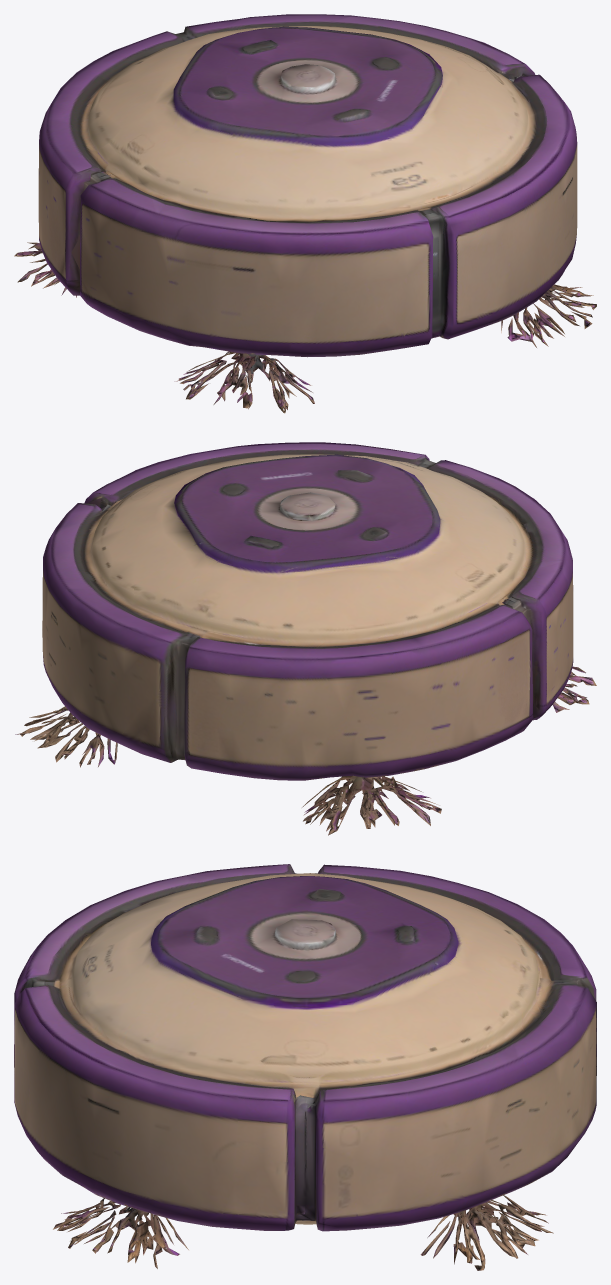
The model's file is Robotic_Vacuum_Charm_0404141555_texture.glb.
3 renders of one model, top to bottom at view 1: azimuth 30°, elevation 25°; view 2: azimuth 150°, elevation 25°; view 3: azimuth 270°, elevation 25°, orthographic. The views are drawn at different scales.
Size of the model in its own units: 2 by 0.891 by 2.
1 material, 1 textured.
